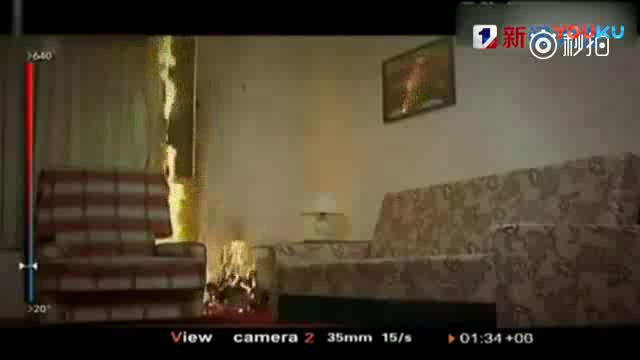fire: (155, 38, 197, 240), (217, 238, 260, 295)
